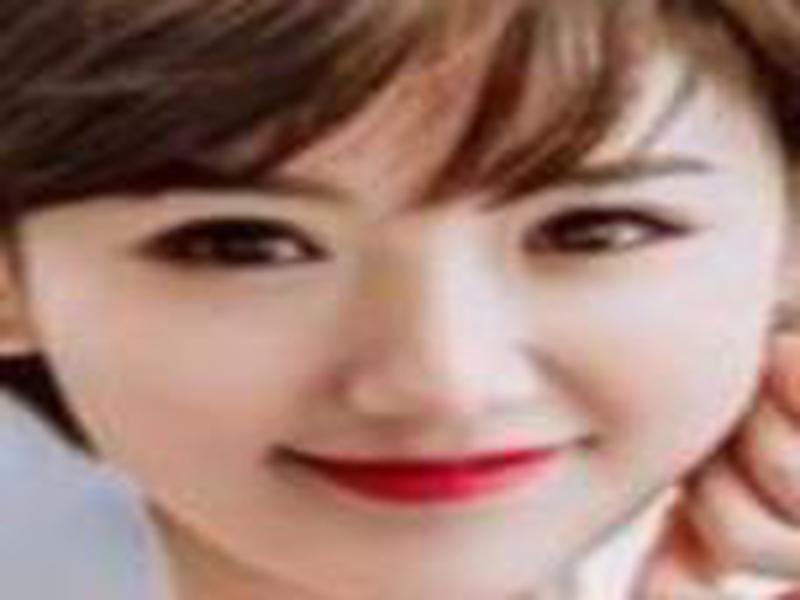without_mask: (15, 84, 783, 591)
